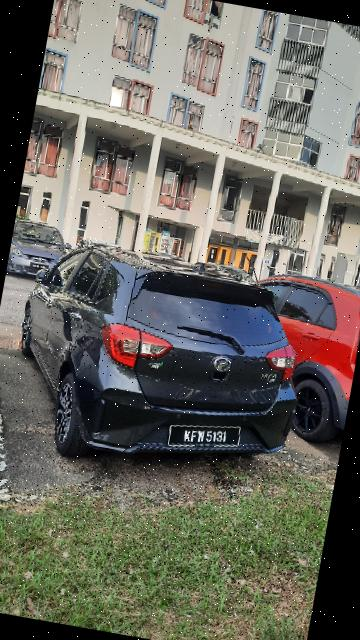License_Plate: (160, 413, 246, 459)
car: (1, 223, 360, 507)
